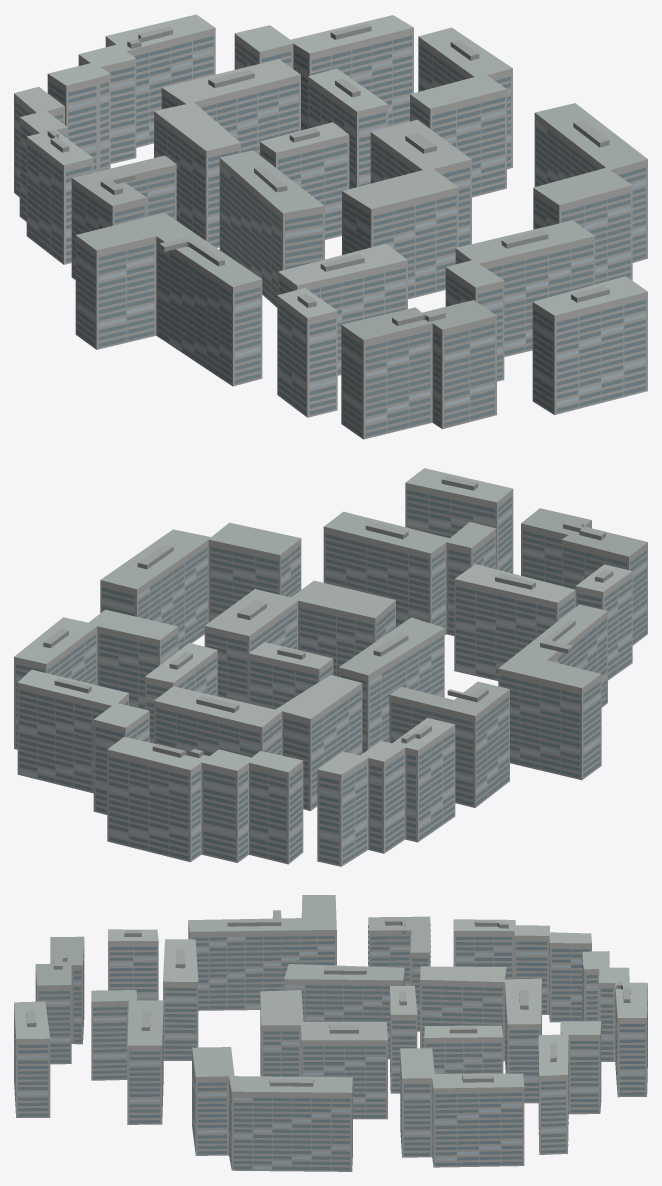
The model's file is apt-a12010104.glb.
3 views of the same model, one above another, from view 1: azimuth 30°, elevation 25°; view 2: azimuth 150°, elevation 25°; view 3: azimuth 270°, elevation 25° (orthographic). The views are drawn at different scales.
Parts seen in each view (by area): view 1: apt-a12010104; view 2: apt-a12010104; view 3: apt-a12010104.
Part boxes in pixels (x1=…): apt-a12010104: x1=14, y1=14, x2=647, y2=439; apt-a12010104: x1=14, y1=468, x2=647, y2=866; apt-a12010104: x1=14, y1=895, x2=647, y2=1171.
Bounding box in the file's own units: 210 × 41 × 284.
